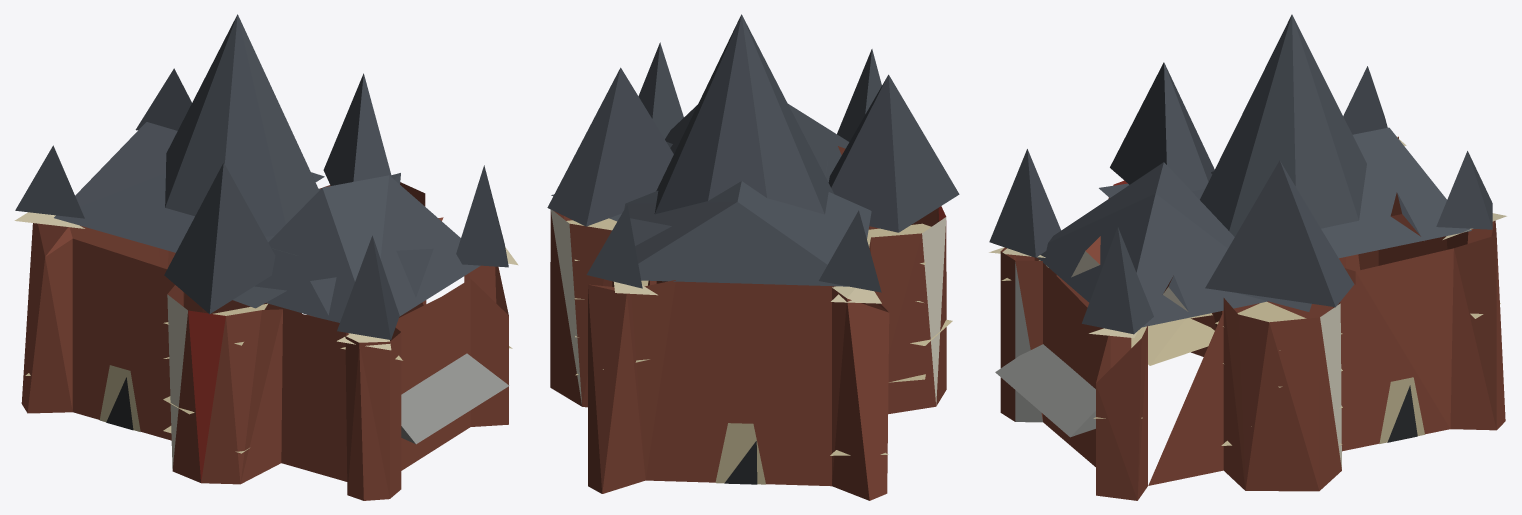
File: waag.lod2.glb
3 renders of one model, left to right at view 1: azimuth 30°, elevation 25°; view 2: azimuth 150°, elevation 25°; view 3: azimuth 270°, elevation 25°, orthographic. The views are drawn at different scales.
Visible parts, largest first — view 1: lod2; view 2: lod2; view 3: lod2.
Boxes of the visible parts, bbox=[...] form: lod2: bbox=[14, 14, 518, 500]; lod2: bbox=[547, 14, 959, 500]; lod2: bbox=[989, 14, 1506, 500].
Bounding box in the file's own units: 25.75 × 25.6 × 30.6.
